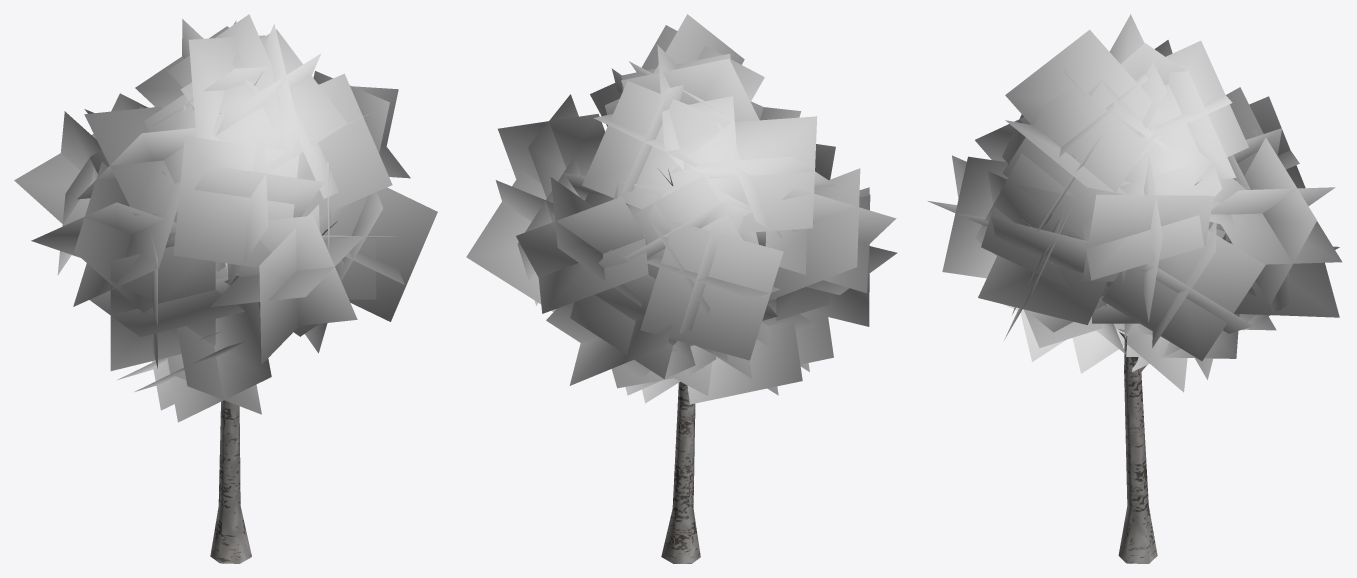
The model's file is tree03_main_LOD1.fbx.
The picture shows the model from 3 angles, left to right: view 1: azimuth 30°, elevation 25°; view 2: azimuth 150°, elevation 25°; view 3: azimuth 270°, elevation 25°; orthographic projection. The views are drawn at different scales.
Visible parts, largest first — view 1: Cylinder.018; view 2: Cylinder.018; view 3: Cylinder.018.
Boxes of the visible parts, bbox=[...] form: Cylinder.018: bbox=[14, 14, 437, 563]; Cylinder.018: bbox=[466, 14, 897, 563]; Cylinder.018: bbox=[927, 14, 1342, 563].
Bounding box in the file's own units: 465 × 652 × 459.
